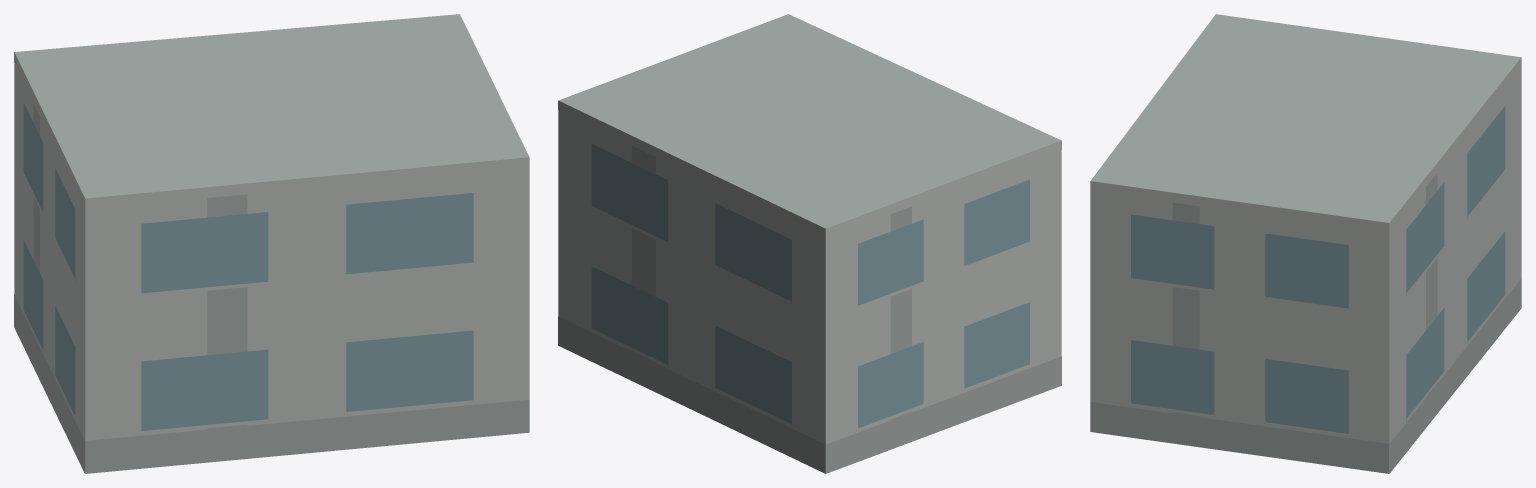
File: survey-upis-32511929.glb
The picture shows the model from 3 angles, left to right: view 1: azimuth 30°, elevation 25°; view 2: azimuth 150°, elevation 25°; view 3: azimuth 270°, elevation 25°; orthographic projection. The views are drawn at different scales.
Parts seen in each view (by area): view 1: survey-upis-32511929.tmp; view 2: survey-upis-32511929.tmp; view 3: survey-upis-32511929.tmp.
Part boxes in pixels (x1=…): survey-upis-32511929.tmp: x1=14, y1=14, x2=529, y2=473; survey-upis-32511929.tmp: x1=558, y1=14, x2=1061, y2=473; survey-upis-32511929.tmp: x1=1090, y1=14, x2=1521, y2=473.
Bounding box in the file's own units: 10.91 × 6.1 × 9.51.
